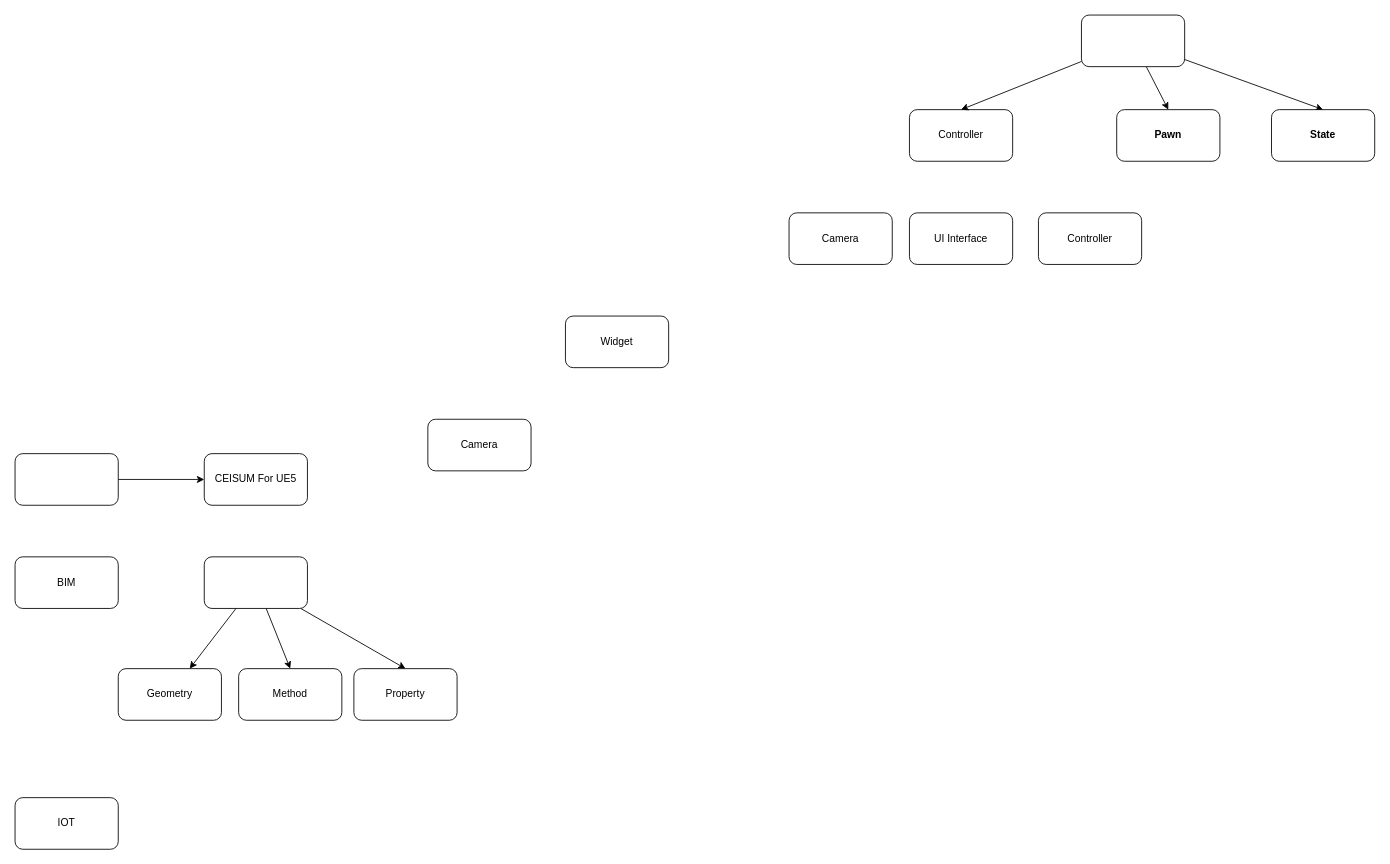
Some shapes in this 1390 by 864 pixel diagram are drawn without their labels. The centre of each missing label's shape, as x and y in pixels:
Categoryed Element: point (255, 582)
GameMode: point (1133, 40)
GIS: point (66, 479)
